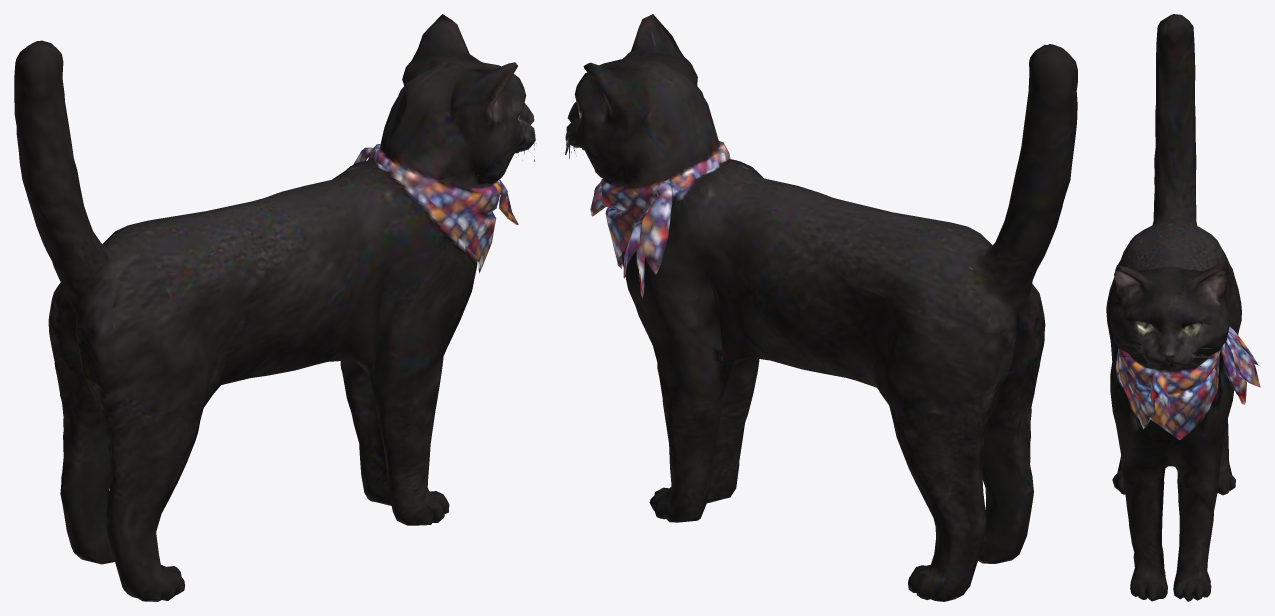
The model's file is JRMOUSER-lo.glb.
3 views of the same model, side by side, from view 1: azimuth 30°, elevation 25°; view 2: azimuth 150°, elevation 25°; view 3: azimuth 270°, elevation 25° (orthographic). The views are drawn at different scales.
Visible parts, largest first — view 1: tripo_node_3b20bb29-4d10-4ee2-97a6-87b1c79a0152; view 2: tripo_node_3b20bb29-4d10-4ee2-97a6-87b1c79a0152; view 3: tripo_node_3b20bb29-4d10-4ee2-97a6-87b1c79a0152.
Part boxes in pixels (<box>): tripo_node_3b20bb29-4d10-4ee2-97a6-87b1c79a0152: <box>14,14,536,601</box>; tripo_node_3b20bb29-4d10-4ee2-97a6-87b1c79a0152: <box>565,14,1077,601</box>; tripo_node_3b20bb29-4d10-4ee2-97a6-87b1c79a0152: <box>1106,14,1260,601</box>.
Size of the model in its own units: 0.9664 by 0.9994 by 0.3188.
1 material, 1 textured.
